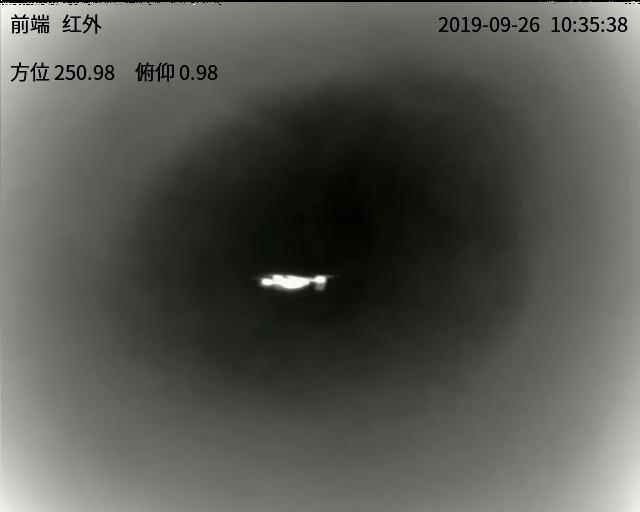uav: (252, 272, 335, 294)
